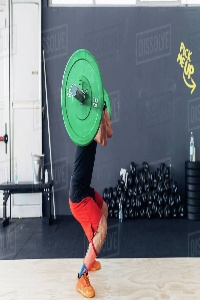barbell: (58, 48, 105, 146)
